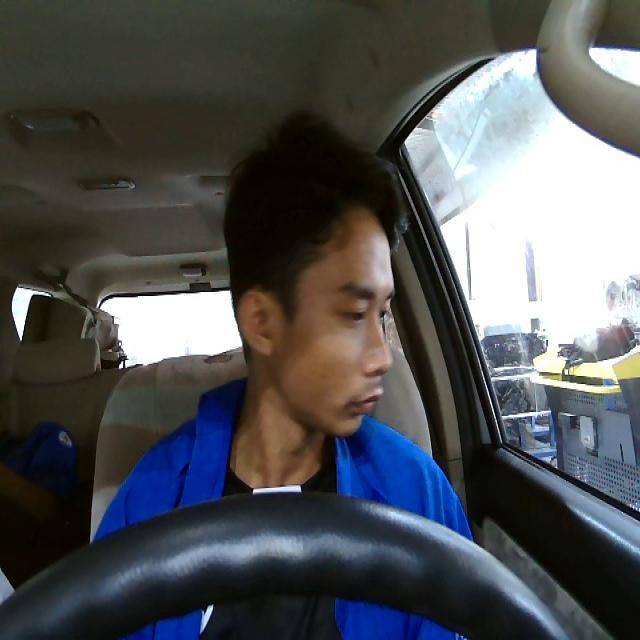seeing_right: (236, 201, 395, 440)
